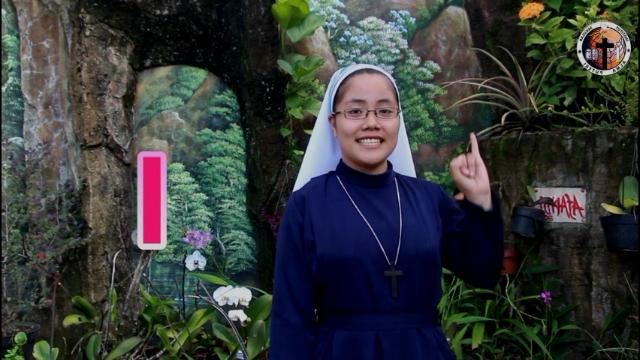I: (446, 130, 494, 195)
